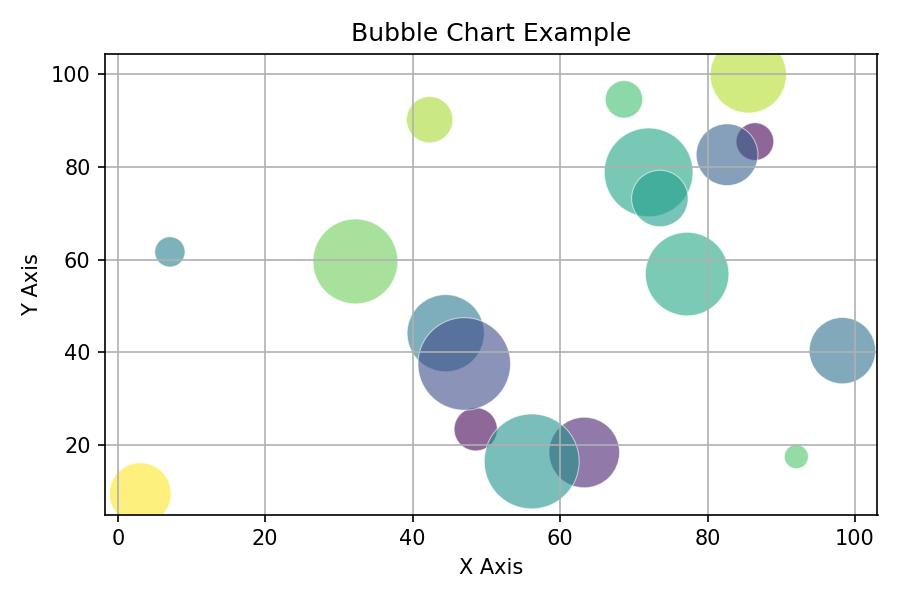axis: (94, 503, 888, 556), (51, 35, 114, 547)
circle: (486, 414, 579, 507), (419, 319, 511, 411), (606, 126, 695, 209), (315, 219, 398, 304), (646, 233, 729, 312), (406, 295, 484, 367), (552, 414, 621, 485), (706, 51, 787, 109), (809, 316, 876, 382), (694, 123, 759, 189), (111, 460, 174, 513), (635, 173, 687, 226), (450, 406, 499, 451), (409, 96, 454, 144), (604, 80, 645, 120), (740, 120, 776, 159), (155, 236, 186, 269), (784, 443, 809, 470)
